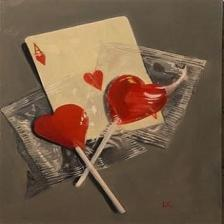red: (107, 75, 169, 125), (32, 105, 89, 149), (85, 70, 102, 90), (34, 43, 45, 65)
